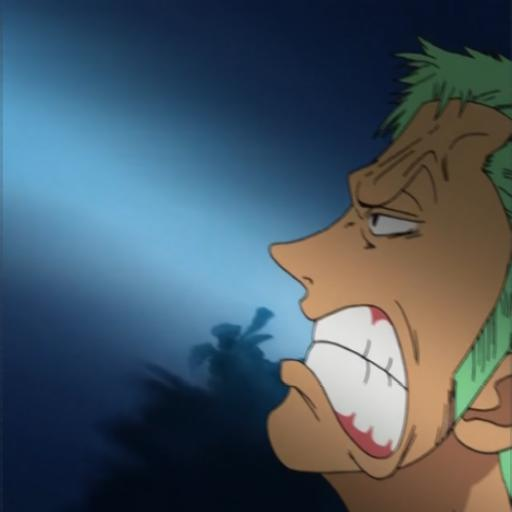Zoro: (265, 17, 512, 512)
